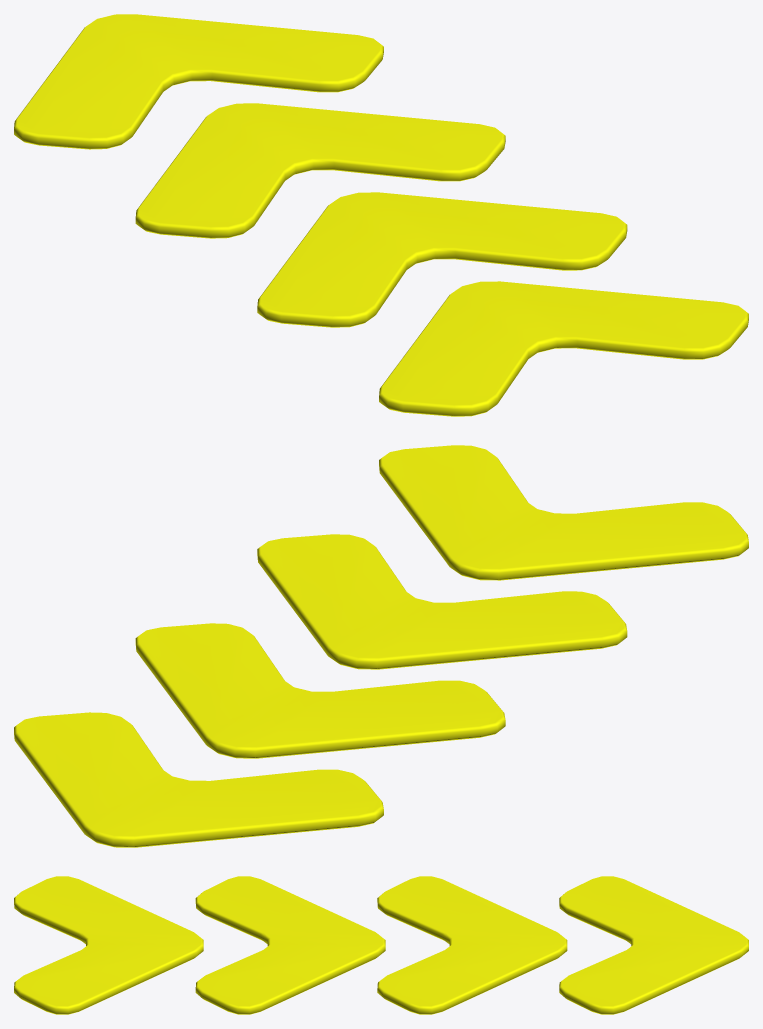
File: obstacle_17_001_arrows.fbx
The picture shows the model from 3 angles, top to bottom: view 1: azimuth 30°, elevation 25°; view 2: azimuth 150°, elevation 25°; view 3: azimuth 270°, elevation 25°; orthographic projection. The views are drawn at different scales.
Visible parts, largest first — view 1: obstacle_17_001_arrows; view 2: obstacle_17_001_arrows; view 3: obstacle_17_001_arrows.
Boxes of the visible parts, x1,y1,x2,y2 form: obstacle_17_001_arrows: [14, 14, 748, 416]; obstacle_17_001_arrows: [14, 445, 748, 847]; obstacle_17_001_arrows: [14, 876, 748, 1014].
Bounding box in the file's own units: 236 × 557 × 7.37.
